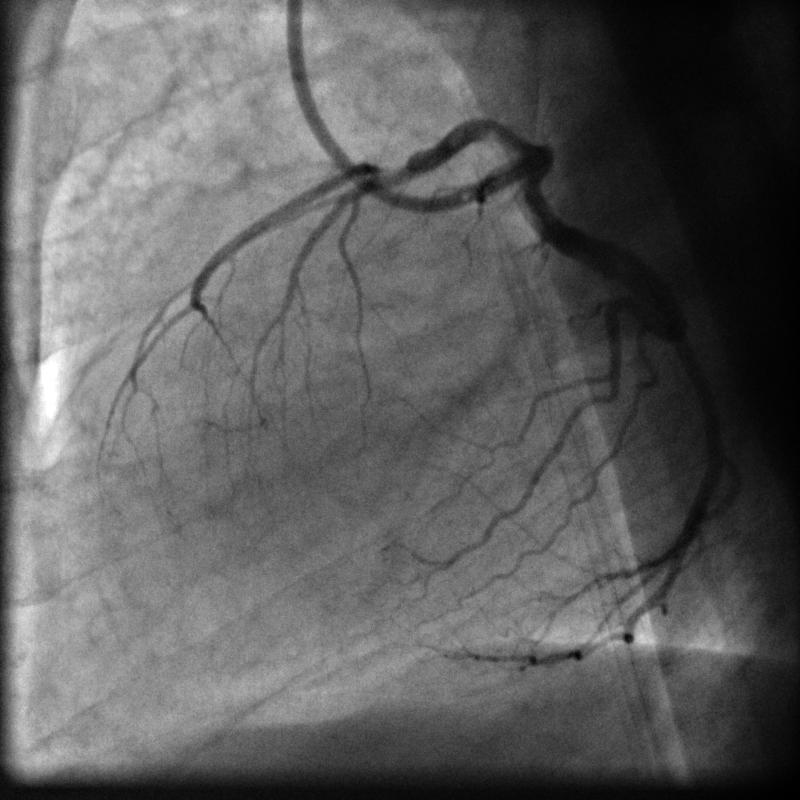Stenosis: (370, 152, 417, 193)
